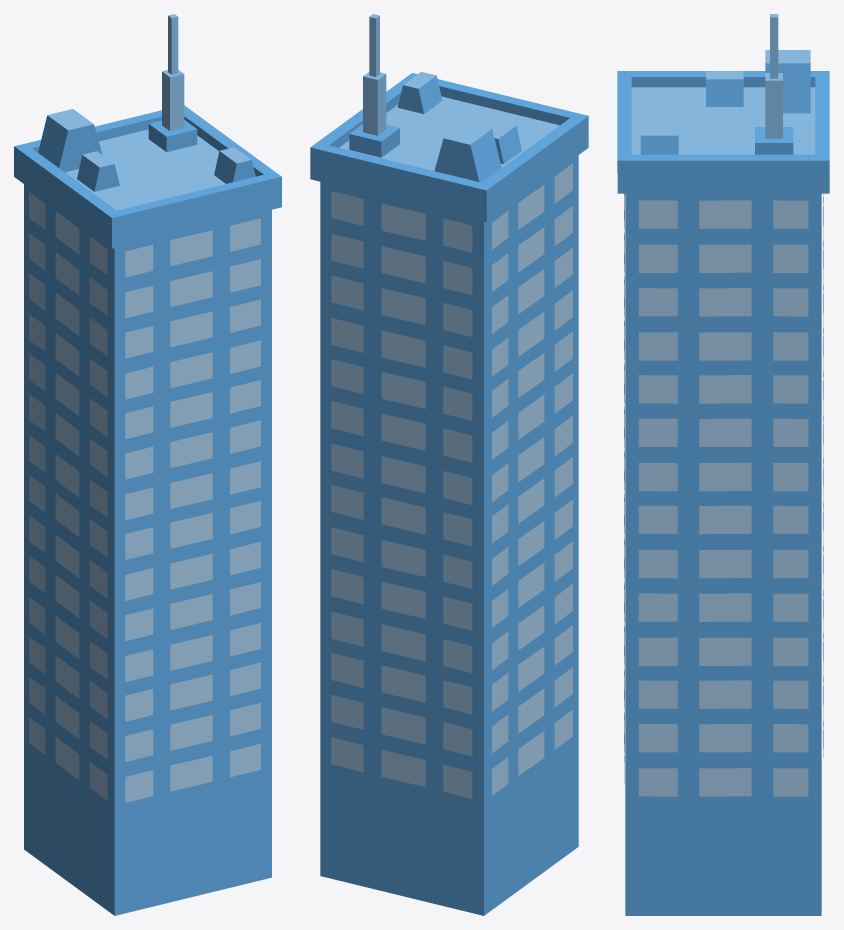
The model's file is house_3windHigh.fbx.
3 renders of one model, left to right at view 1: azimuth 30°, elevation 25°; view 2: azimuth 150°, elevation 25°; view 3: azimuth 270°, elevation 25°, orthographic. The views are drawn at different scales.
Parts seen in each view (by area): view 1: house_3windHigh; view 2: house_3windHigh; view 3: house_3windHigh.
Boxes of the visible parts, left/top/right/bottom form: house_3windHigh: left=14, top=14, right=281, bottom=915; house_3windHigh: left=310, top=14, right=588, bottom=915; house_3windHigh: left=617, top=14, right=829, bottom=915.
Bounding box in the file's own units: 66.18 × 305 × 66.21.
